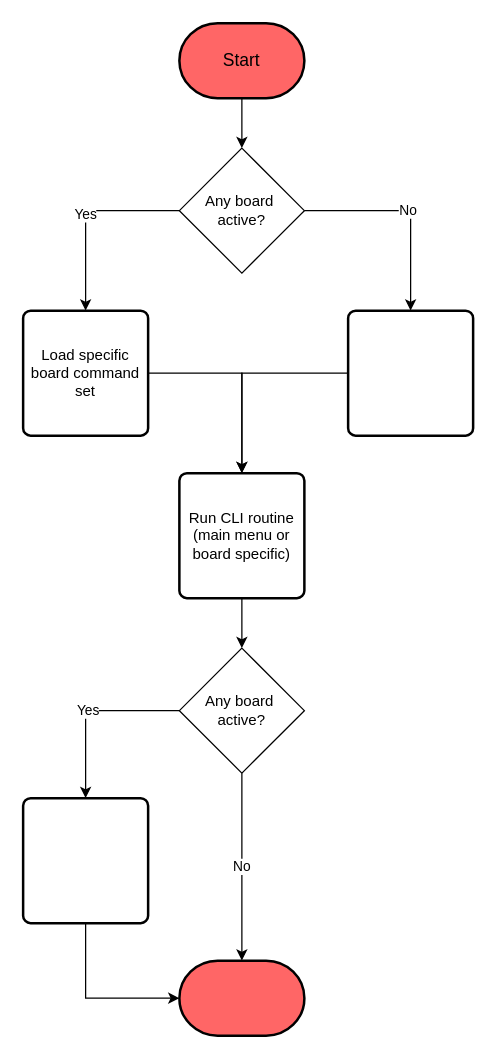
This 495x1058 diagram has some shape labels left out. The centre of each missing label's shape, as x and y in pixels:
Exit process: (x=241, y=997)
Load system manager command set (main menu): (x=410, y=372)
Run active board process: (x=85, y=860)
